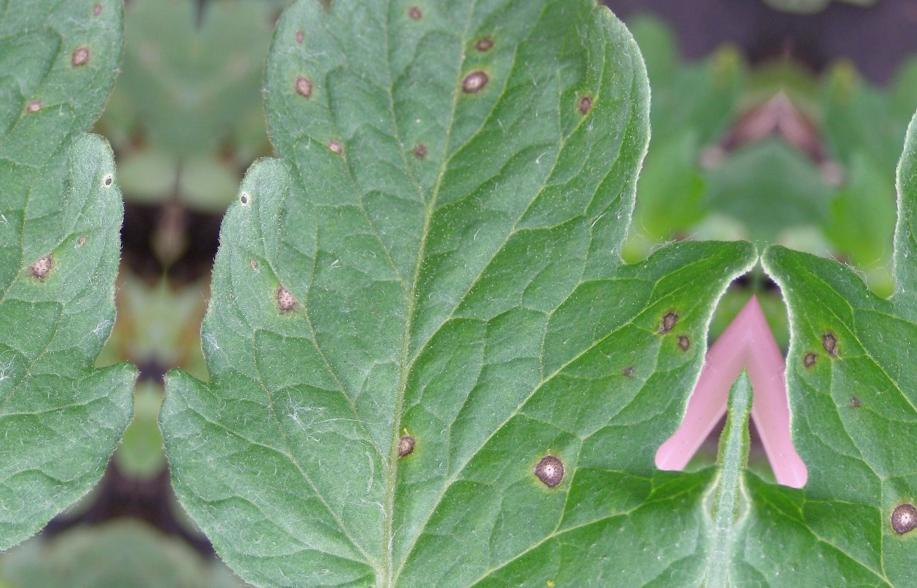Tomato leaf bacterial spot: (132, 0, 808, 588)
